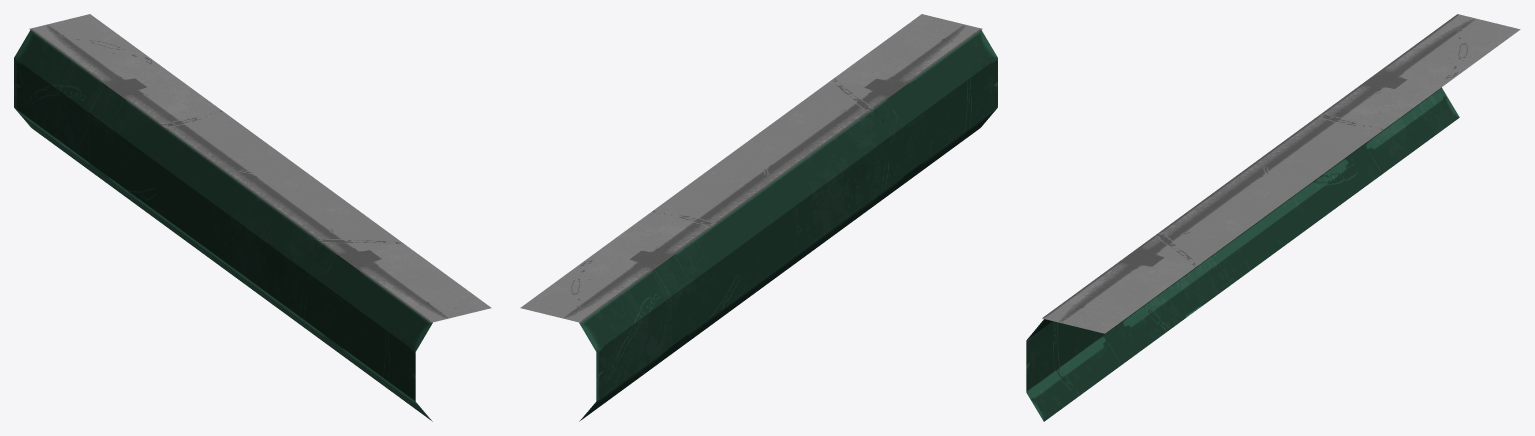
The model's file is 6 kabe.fbx.
3 renders of one model, left to right at view 1: azimuth 30°, elevation 25°; view 2: azimuth 150°, elevation 25°; view 3: azimuth 330°, elevation 25°, orthographic. The views are drawn at different scales.
Parts seen in each view (by area): view 1: polySurface169, polySurface170; view 2: polySurface169, polySurface170; view 3: polySurface170, polySurface169.
Part boxes in pixels (bbox=[...]): polySurface169: bbox=[14, 30, 432, 421]; polySurface170: bbox=[29, 14, 491, 322]; polySurface169: bbox=[579, 30, 997, 421]; polySurface170: bbox=[520, 14, 982, 322]; polySurface170: bbox=[1042, 14, 1520, 333]; polySurface169: bbox=[1026, 87, 1459, 421].
Size of the model in its own units: 14.02 by 17.52 by 128.
Materials: 1 (1 with a texture image).
